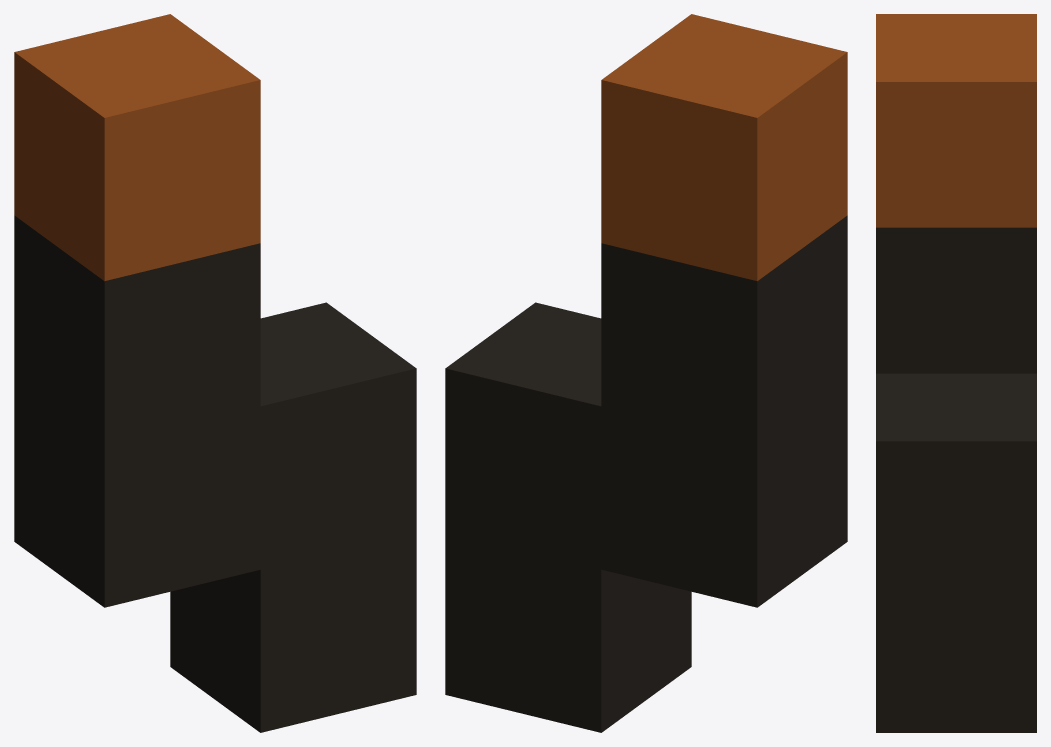
Rendered from torch.obj.
3 renders of one model, left to right at view 1: azimuth 30°, elevation 25°; view 2: azimuth 150°, elevation 25°; view 3: azimuth 270°, elevation 25°, orthographic. The views are drawn at different scales.
Bounding box in the file's own units: 0.2 × 0.4 × 0.1.
Materials: 1 (1 with a texture image).
